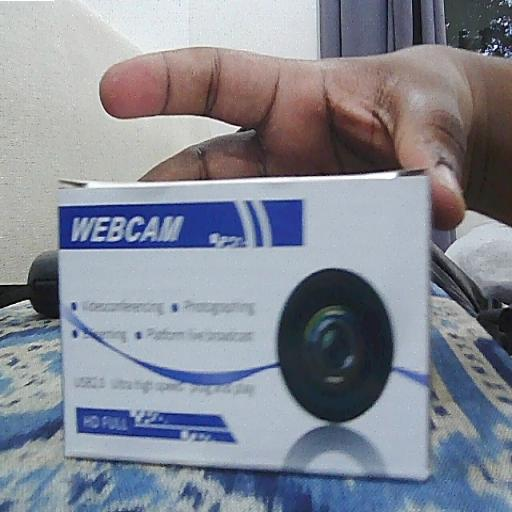webcam_box: (56, 172, 432, 480)
